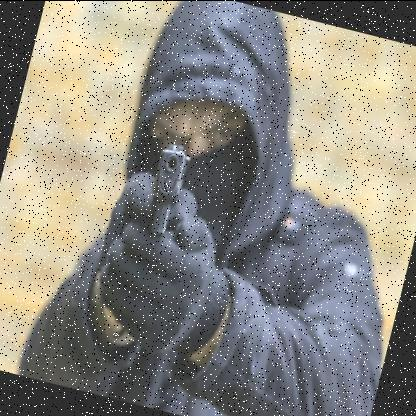rifle: (133, 133, 196, 260)
